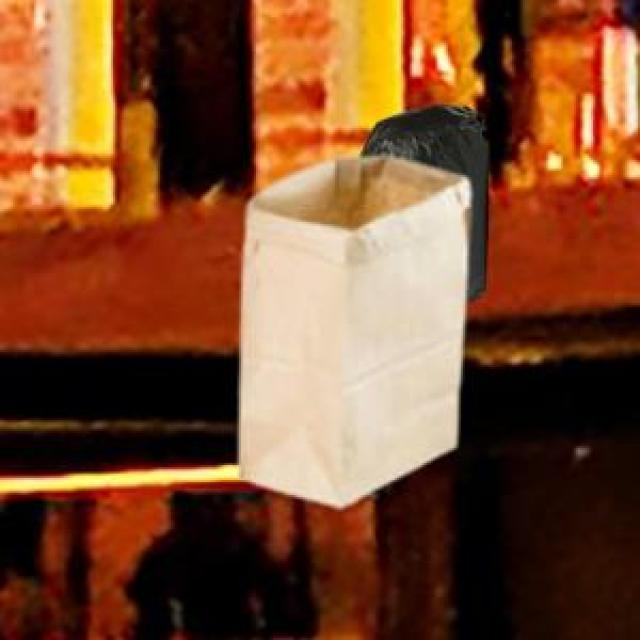miscellaneous trash: (357, 100, 482, 299)
paper: (235, 154, 465, 504)
